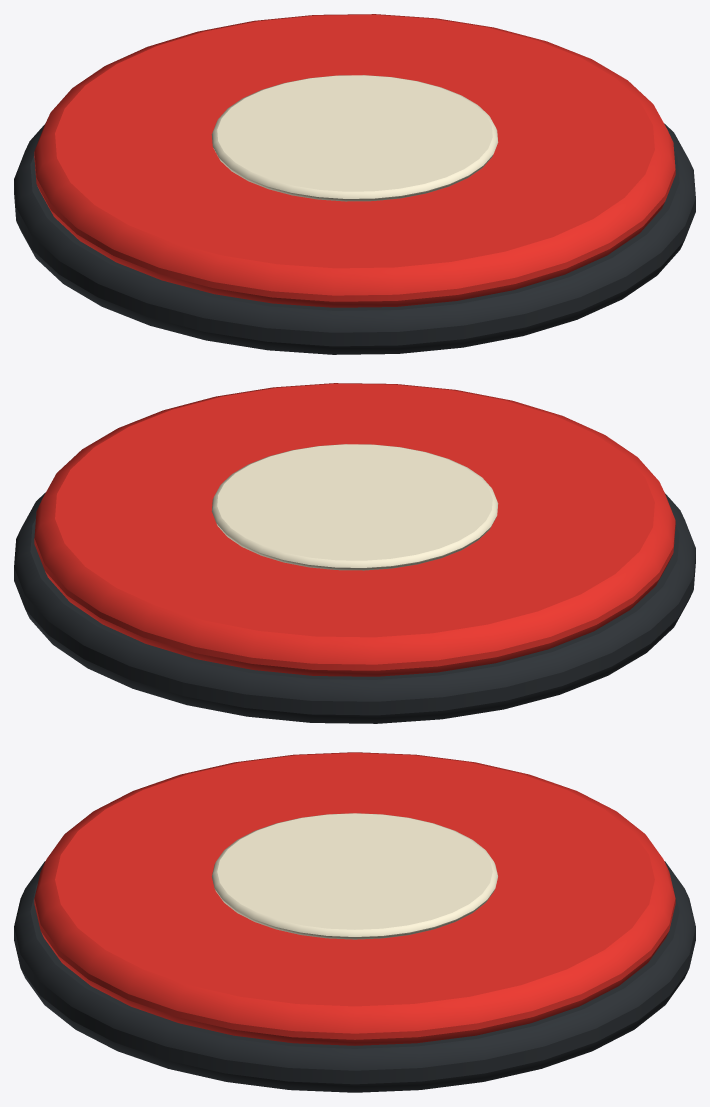
The model's file is 05_PressurePlate.fbx.
3 views of the same model, one above another, from view 1: azimuth 30°, elevation 25°; view 2: azimuth 150°, elevation 25°; view 3: azimuth 270°, elevation 25° (orthographic).
Visible parts, largest first — view 1: Pressure_Plate, Plate_Underbase, Impact_Target; view 2: Pressure_Plate, Plate_Underbase, Impact_Target; view 3: Pressure_Plate, Plate_Underbase, Impact_Target.
Boxes of the visible parts, box(x1,y1,x2,y2) form: Pressure_Plate: box(34, 14, 675, 307); Plate_Underbase: box(14, 123, 695, 354); Impact_Target: box(211, 75, 498, 201); Pressure_Plate: box(34, 383, 675, 676); Plate_Underbase: box(14, 492, 695, 723); Impact_Target: box(211, 444, 498, 570); Pressure_Plate: box(34, 752, 675, 1045); Plate_Underbase: box(14, 861, 695, 1092); Impact_Target: box(212, 813, 497, 939).
Bounding box in the file's own units: 50 × 9.7 × 50.
